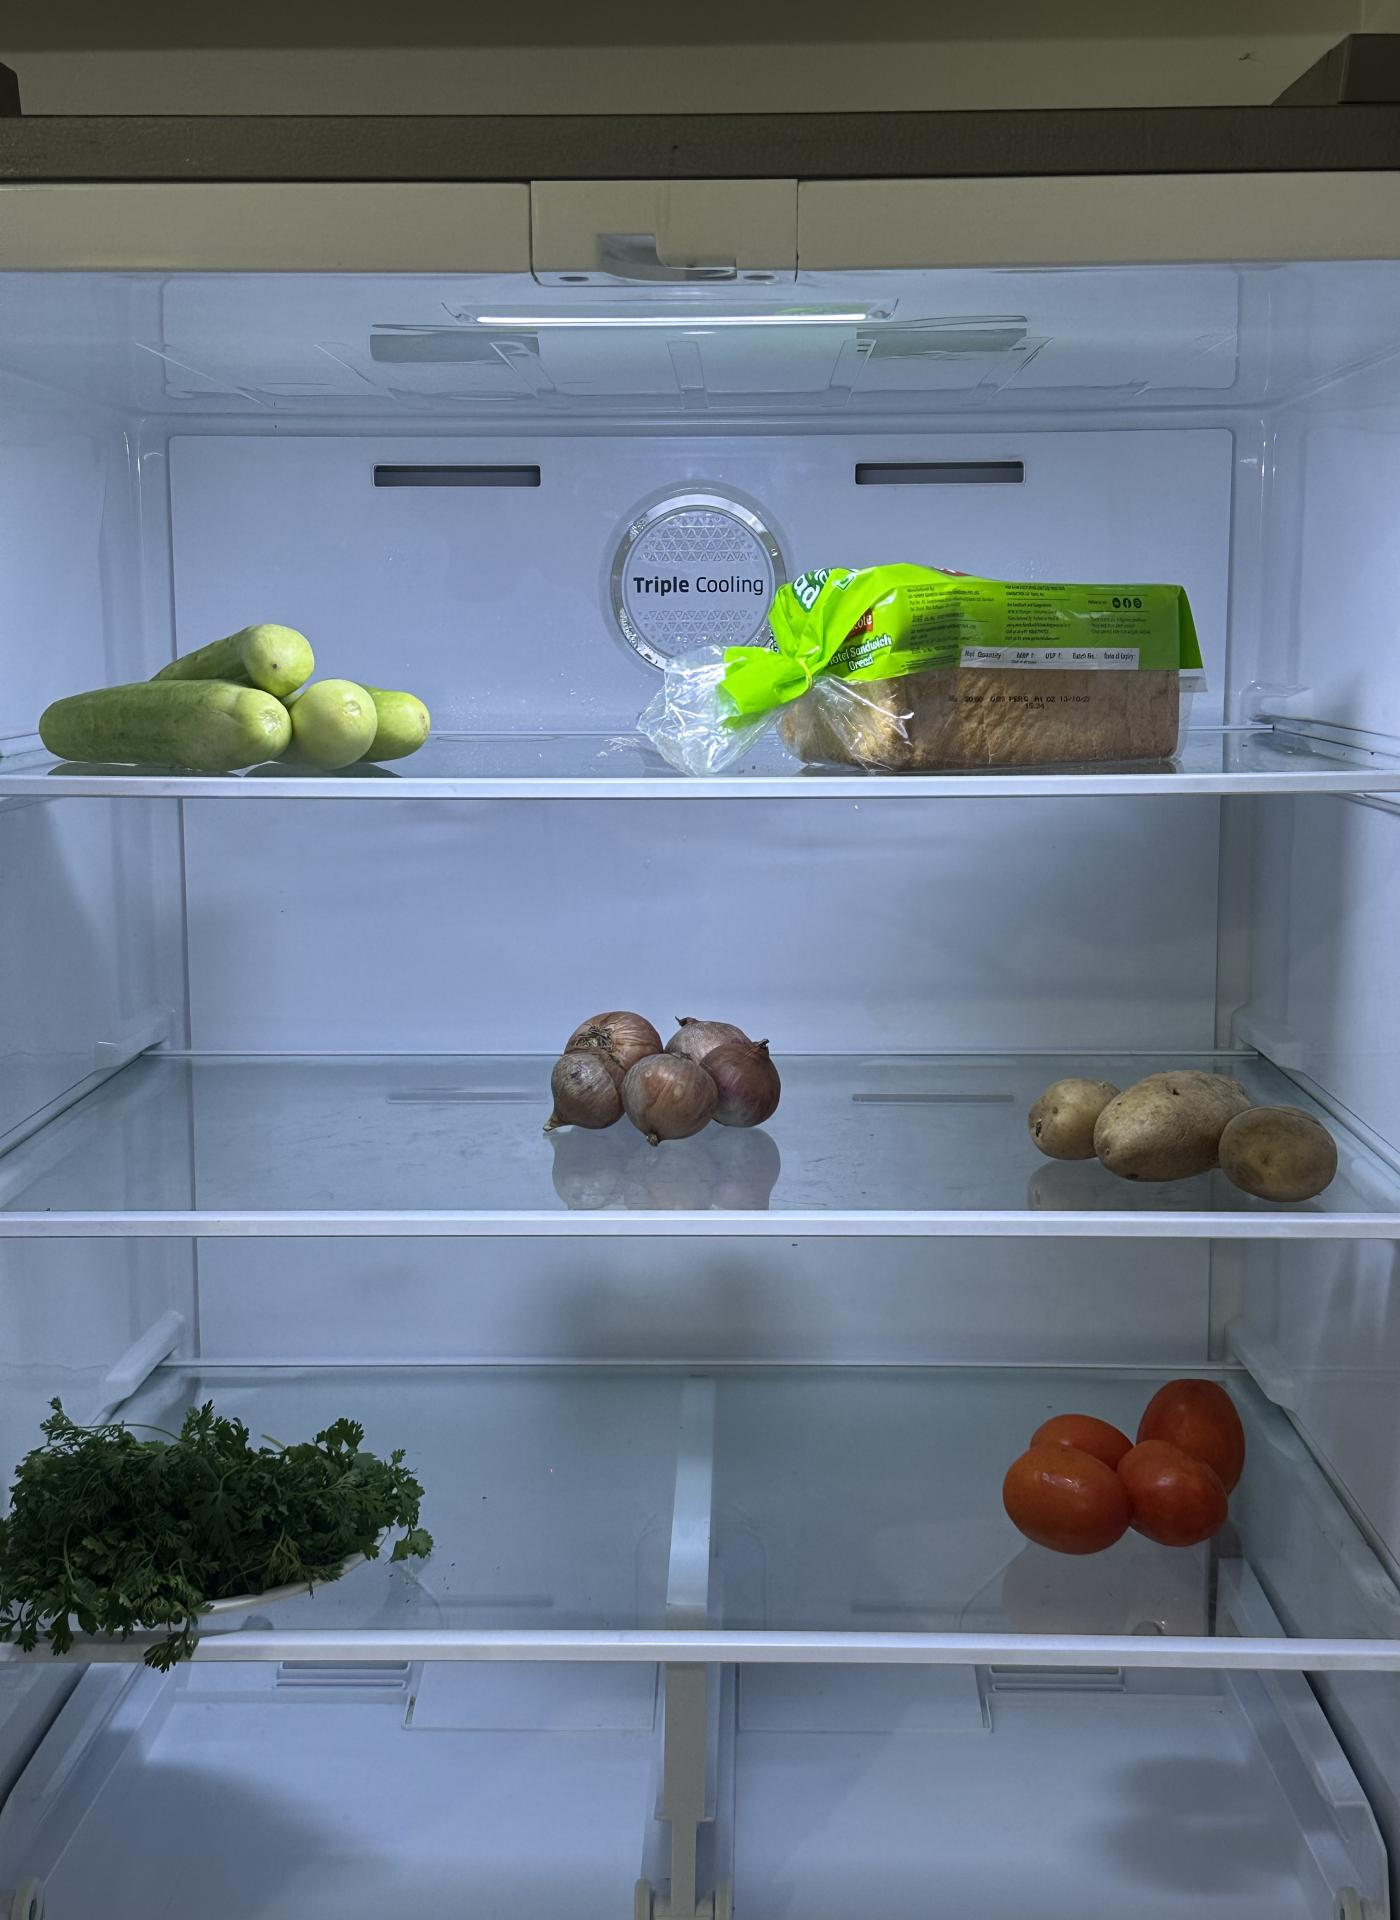bread: (771, 558, 1199, 768)
coriander: (0, 1404, 423, 1634)
cucumber: (36, 626, 435, 803)
onion: (550, 1003, 789, 1145)
potato: (1024, 1052, 1340, 1197)
tomato: (997, 1376, 1248, 1558)
